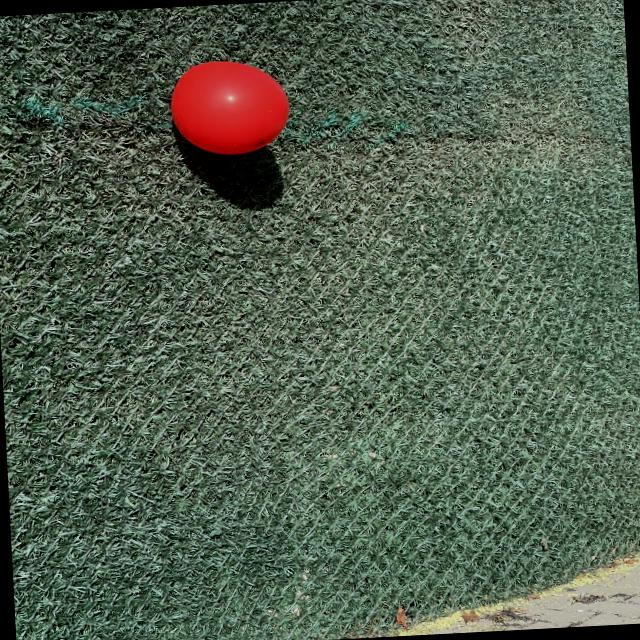balloon: (171, 62, 289, 154)
